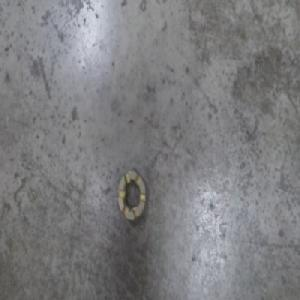Nut: (116, 166, 148, 225)
